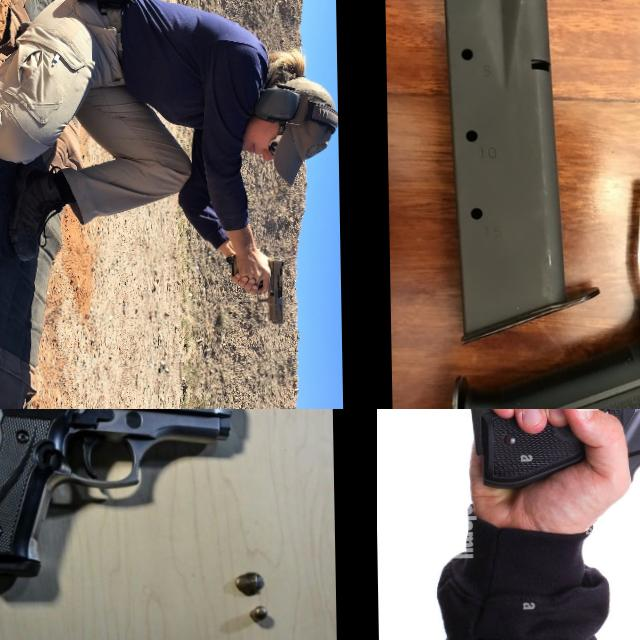handgun: (439, 0, 640, 409), (0, 409, 243, 582), (456, 409, 640, 591), (254, 256, 286, 328)
